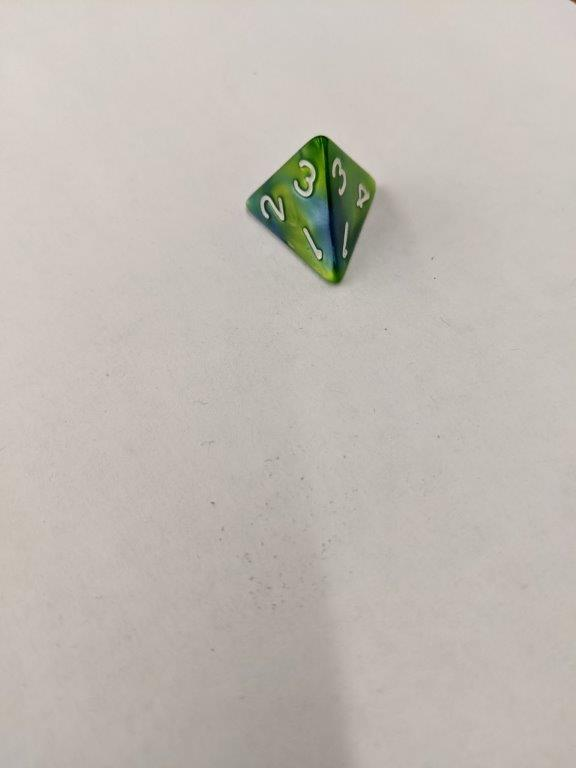d4-3: (243, 135, 380, 284)
